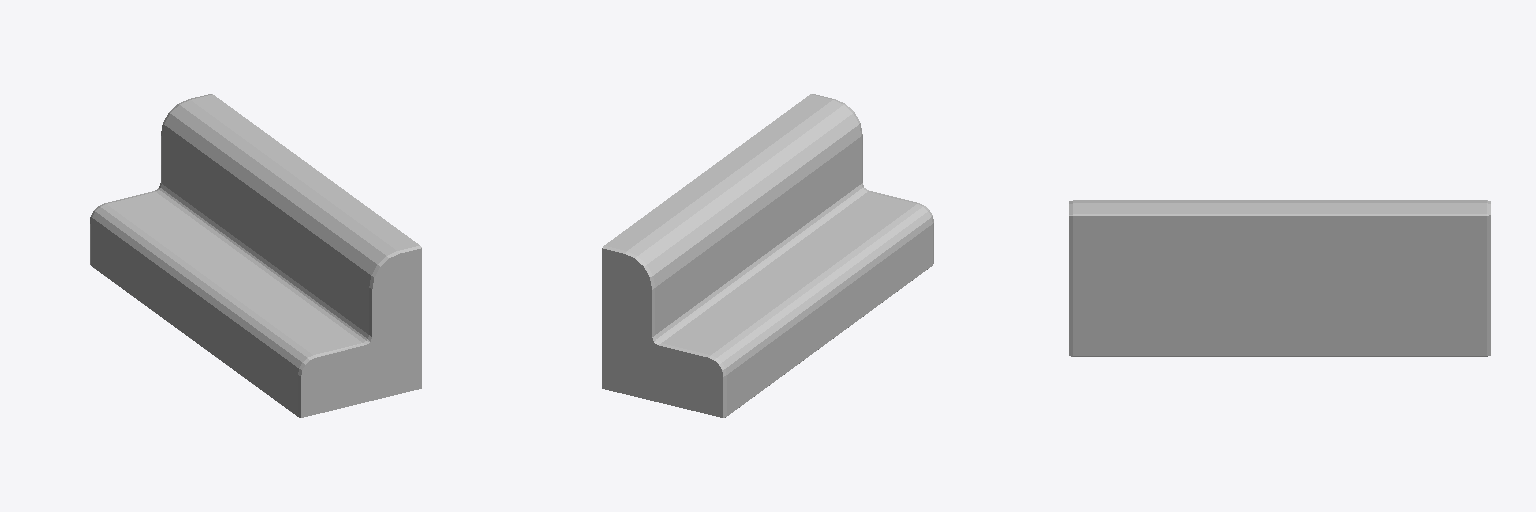
Rendered from seat_12.obj.
3 views of the same model, side by side, from view 1: azimuth 30°, elevation 25°; view 2: azimuth 150°, elevation 25°; view 3: azimuth 270°, elevation 25° (orthographic).
Parts seen in each view (by area): view 1: Cadeira1.011_Cube.011; view 2: Cadeira1.011_Cube.011; view 3: Cadeira1.011_Cube.011.
Part boxes in pixels (left/top/right/bottom): Cadeira1.011_Cube.011: left=90, top=94, right=421, bottom=417; Cadeira1.011_Cube.011: left=602, top=94, right=933, bottom=417; Cadeira1.011_Cube.011: left=1069, top=200, right=1490, bottom=356.
Bounding box in the file's own units: 1.09 × 1.2 × 3.23.